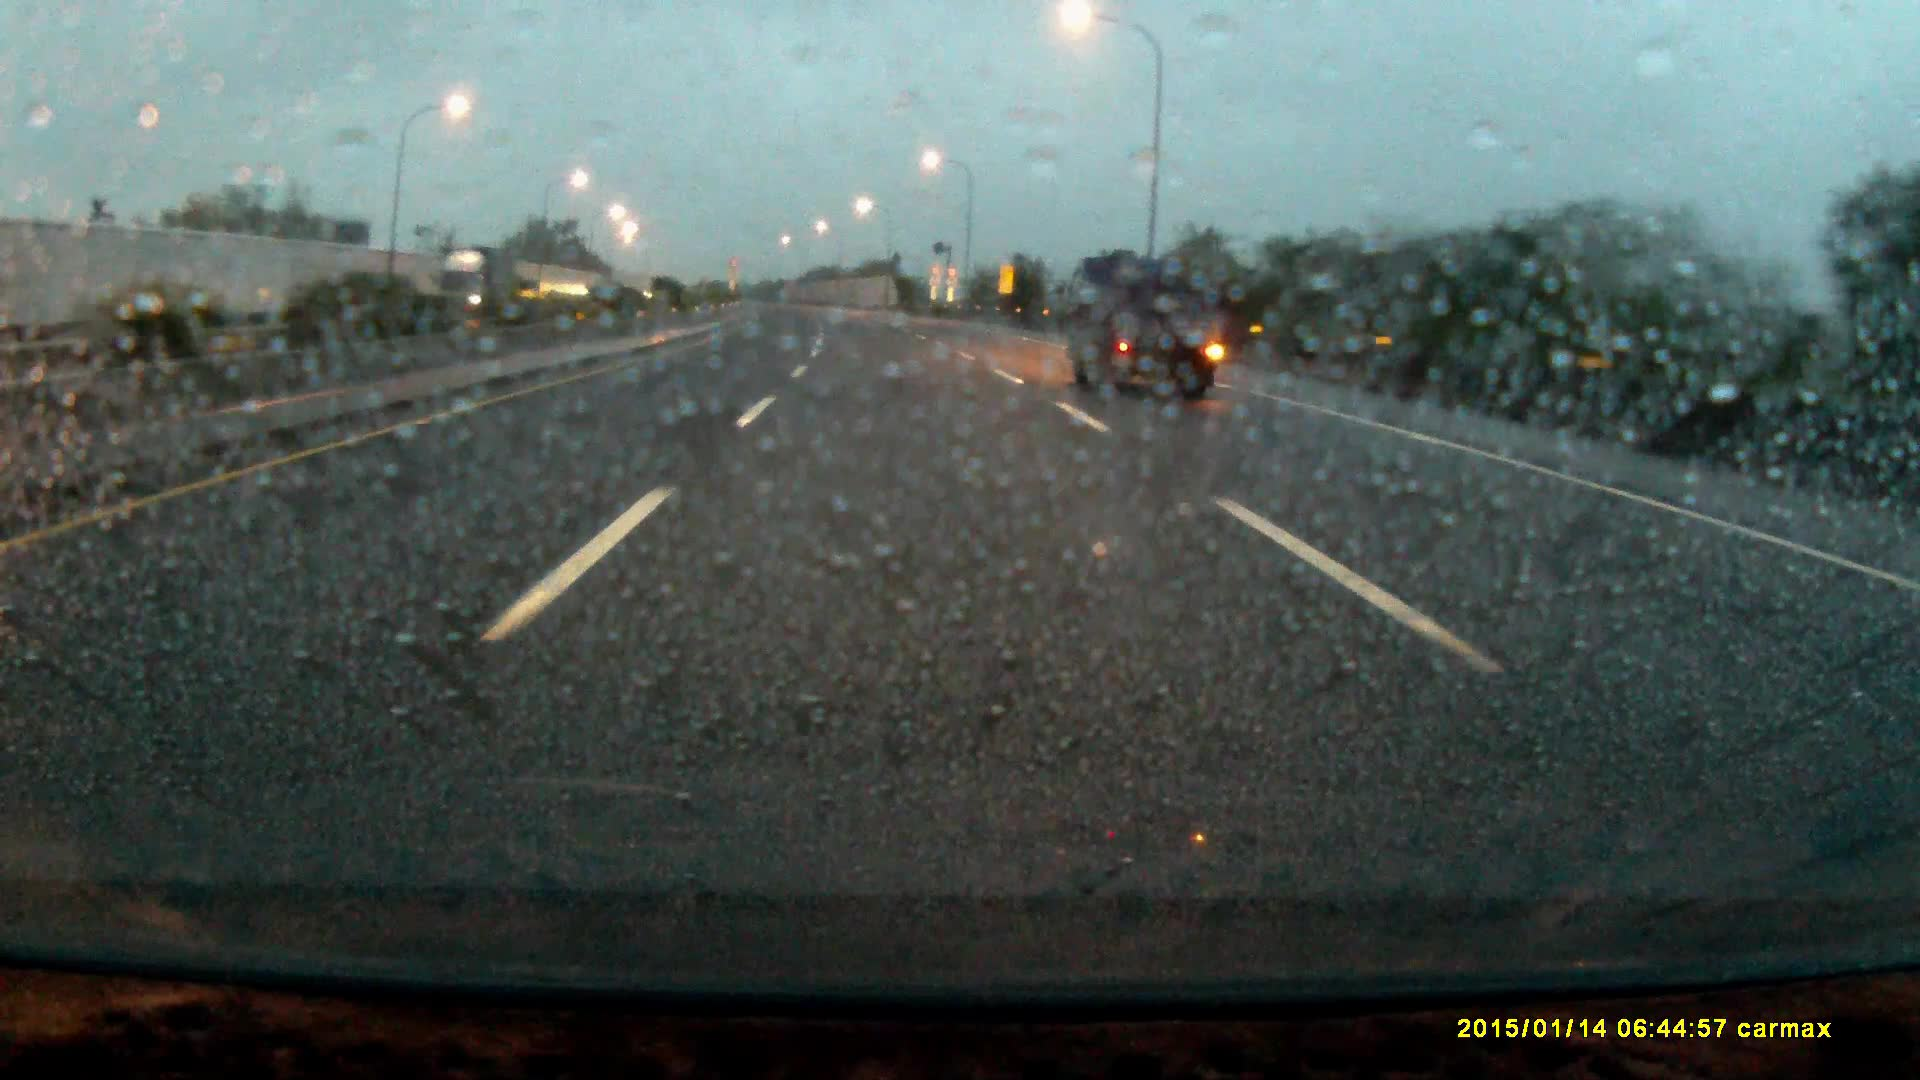vehicle: (1065, 251, 1217, 402), (433, 244, 520, 328)
